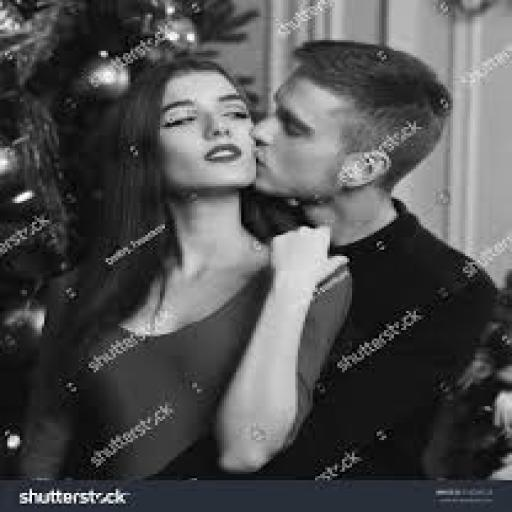hugging: (10, 36, 507, 482)
